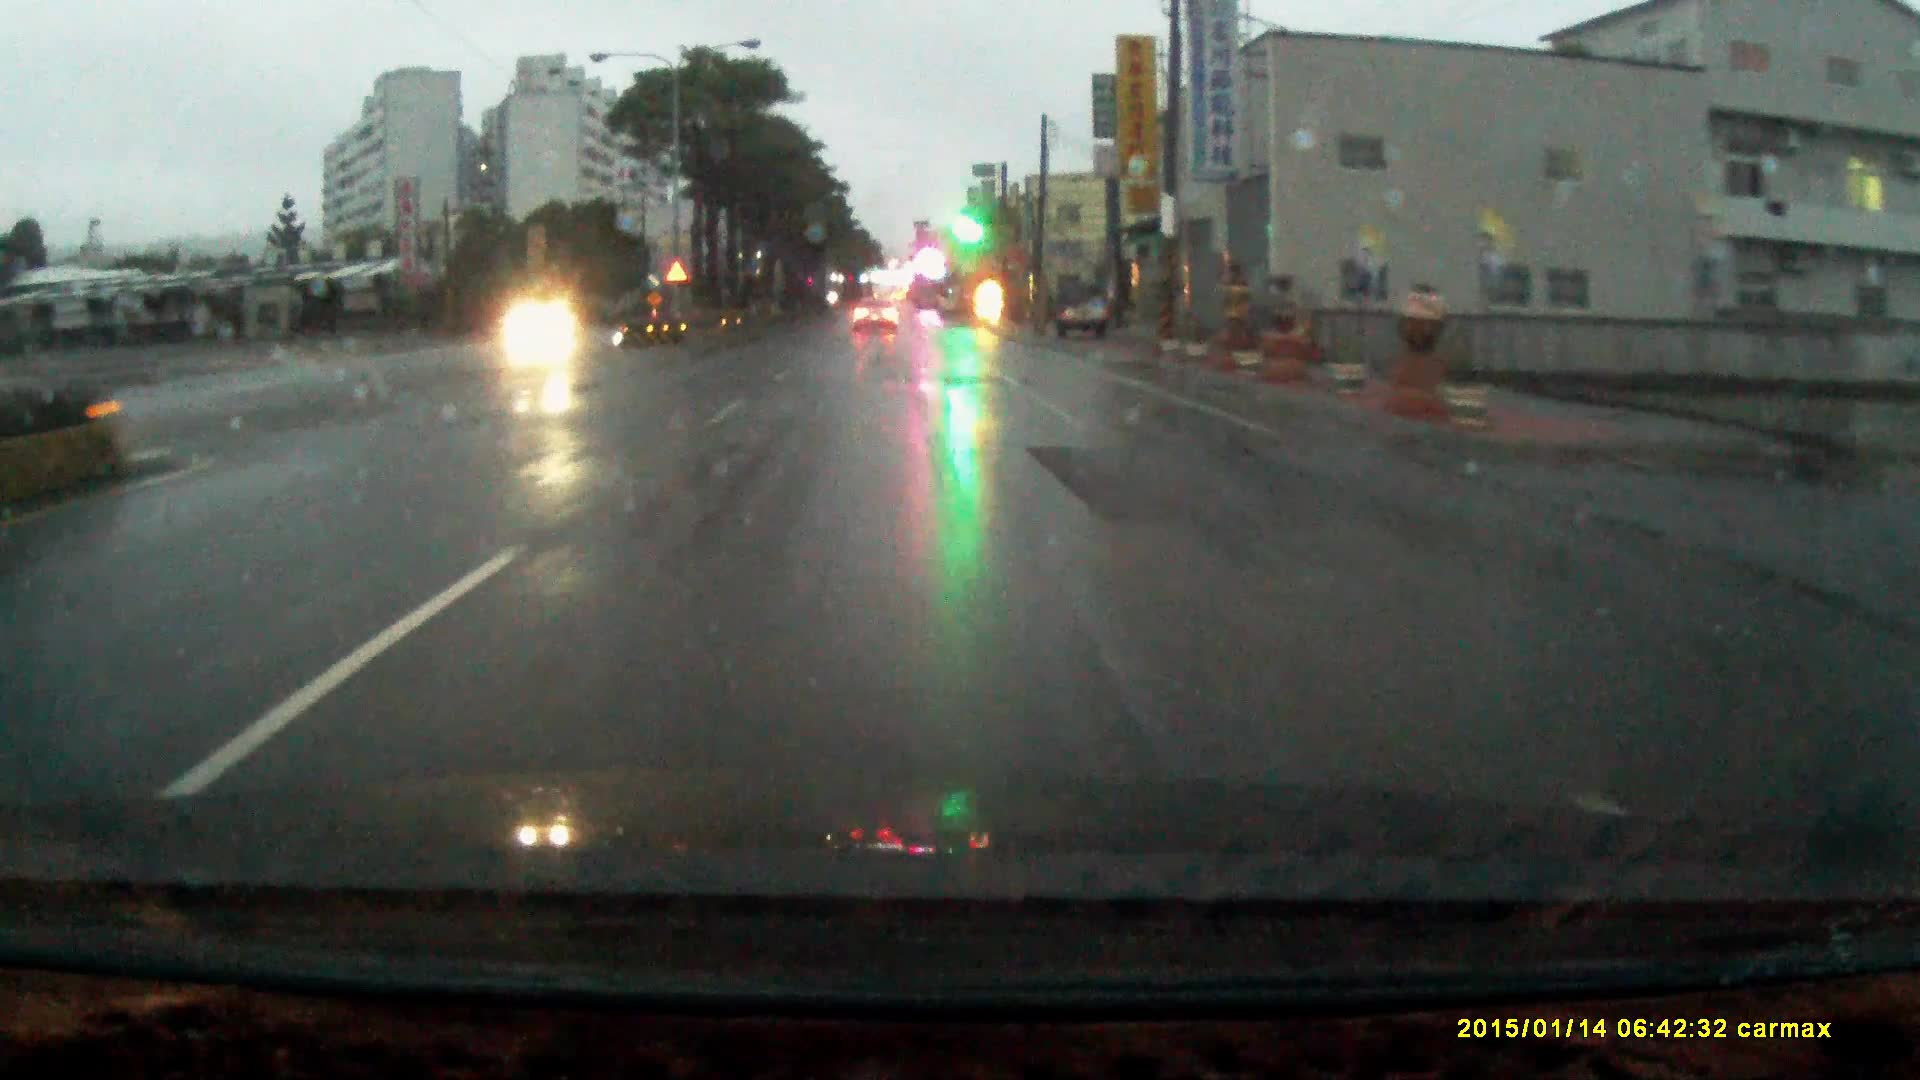vehicle: (1059, 286, 1116, 343), (853, 303, 902, 339)
